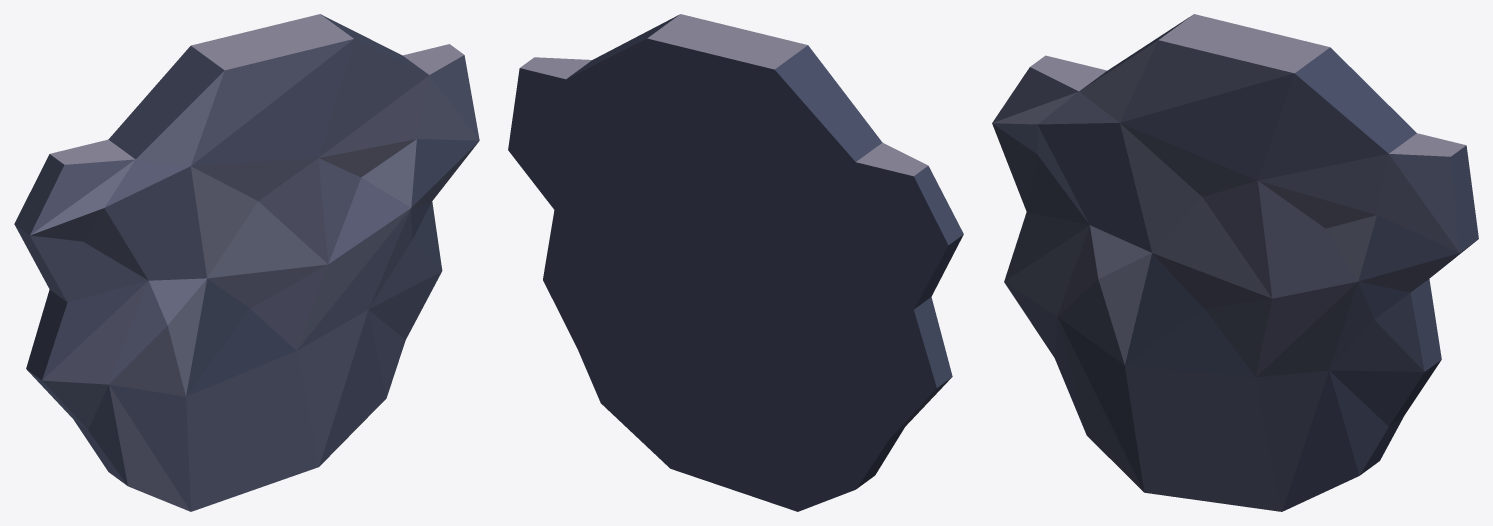
File: support-broken-terrace.glb
3 renders of one model, left to right at view 1: azimuth 30°, elevation 25°; view 2: azimuth 150°, elevation 25°; view 3: azimuth 330°, elevation 25°, orthographic. The views are drawn at different scales.
Visible parts, largest first — view 1: Broken Terrace; view 2: Broken Terrace; view 3: Broken Terrace.
Boxes of the visible parts, bbox=[...] form: Broken Terrace: bbox=[14, 14, 479, 511]; Broken Terrace: bbox=[508, 14, 963, 511]; Broken Terrace: bbox=[992, 14, 1478, 511].
Size of the model in its own units: 38 by 36 by 5.2.
